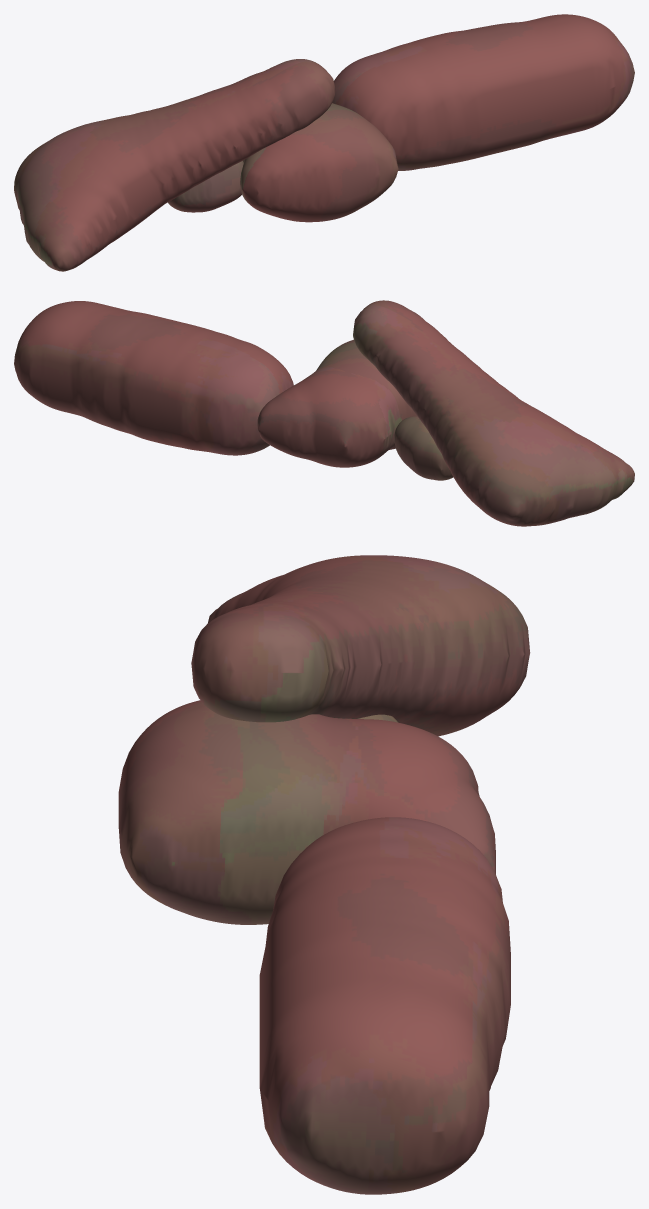
Rendered from RockWall Short.fbx.
3 renders of one model, top to bottom at view 1: azimuth 30°, elevation 25°; view 2: azimuth 150°, elevation 25°; view 3: azimuth 270°, elevation 25°, orthographic. The views are drawn at different scales.
Parts seen in each view (by area): view 1: root (×4); view 2: root (×4); view 3: root (×3).
Part boxes in pixels (x1=…): root (×4): x1=14, y1=14, x2=634, y2=271; root (×4): x1=14, y1=300, x2=634, y2=526; root (×3): x1=118, y1=555, x2=530, y2=1194.
Bounding box in the file's own units: 0.2327 × 0.0586 × 0.0729.
4 materials, 4 textured.
